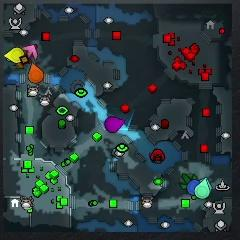p1: (188, 181, 200, 194)
p2: (195, 179, 209, 198)
p3: (105, 116, 125, 133)
p4: (5, 46, 24, 64)
p5: (29, 63, 43, 82)
x1: (24, 44, 39, 61)
x3: (199, 177, 212, 190)
x4: (180, 172, 197, 188)
